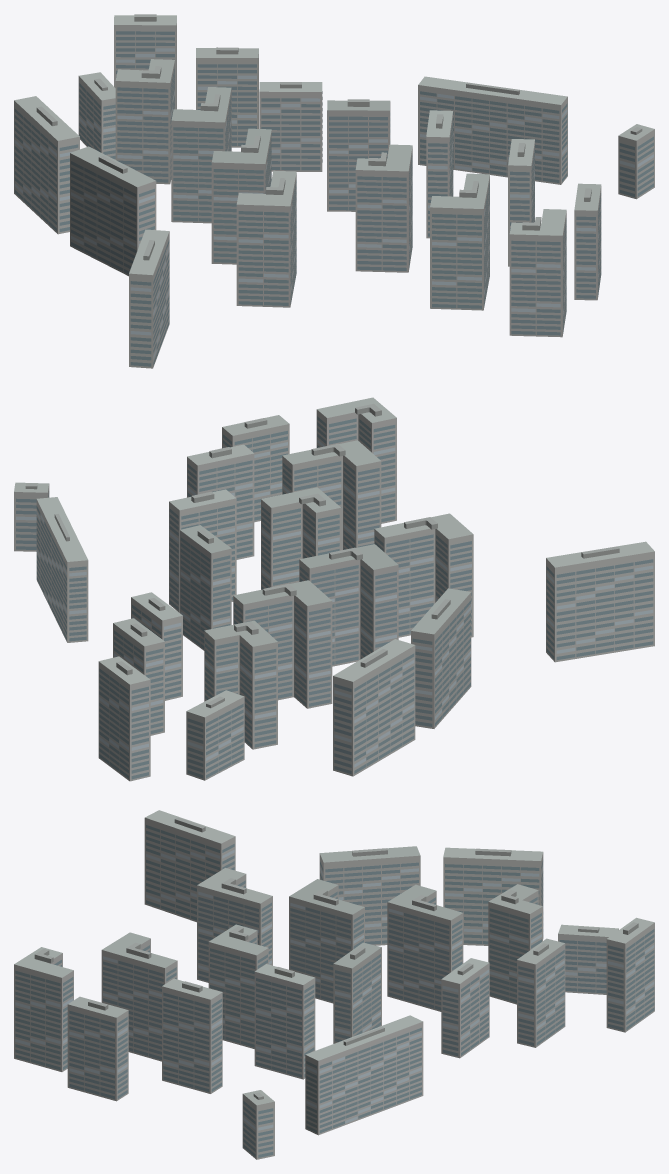
The model's file is apt-a10025013.glb.
The picture shows the model from 3 angles, top to bottom: view 1: azimuth 30°, elevation 25°; view 2: azimuth 150°, elevation 25°; view 3: azimuth 270°, elevation 25°; orthographic projection. The views are drawn at different scales.
Parts seen in each view (by area): view 1: apt-a10025013; view 2: apt-a10025013; view 3: apt-a10025013.
Part boxes in pixels (x1,y1,x2,y2): apt-a10025013: [14, 14, 654, 368]; apt-a10025013: [14, 397, 654, 781]; apt-a10025013: [14, 810, 654, 1159].
Size of the model in its own units: 296 by 52 by 306.
